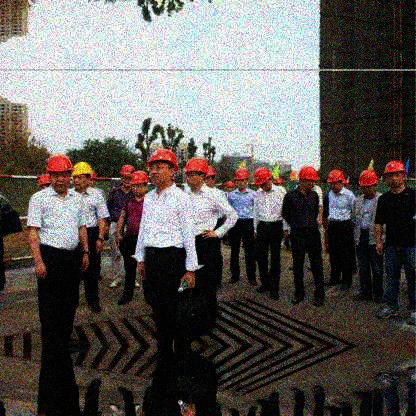helmet: (144, 150, 180, 189), (47, 156, 75, 196), (184, 158, 209, 193), (384, 161, 408, 192), (73, 162, 95, 193), (297, 167, 320, 196), (357, 170, 378, 199), (131, 168, 150, 198), (254, 168, 275, 194), (327, 170, 346, 195), (120, 165, 135, 190), (235, 169, 248, 192), (206, 166, 217, 191), (225, 182, 235, 194)
